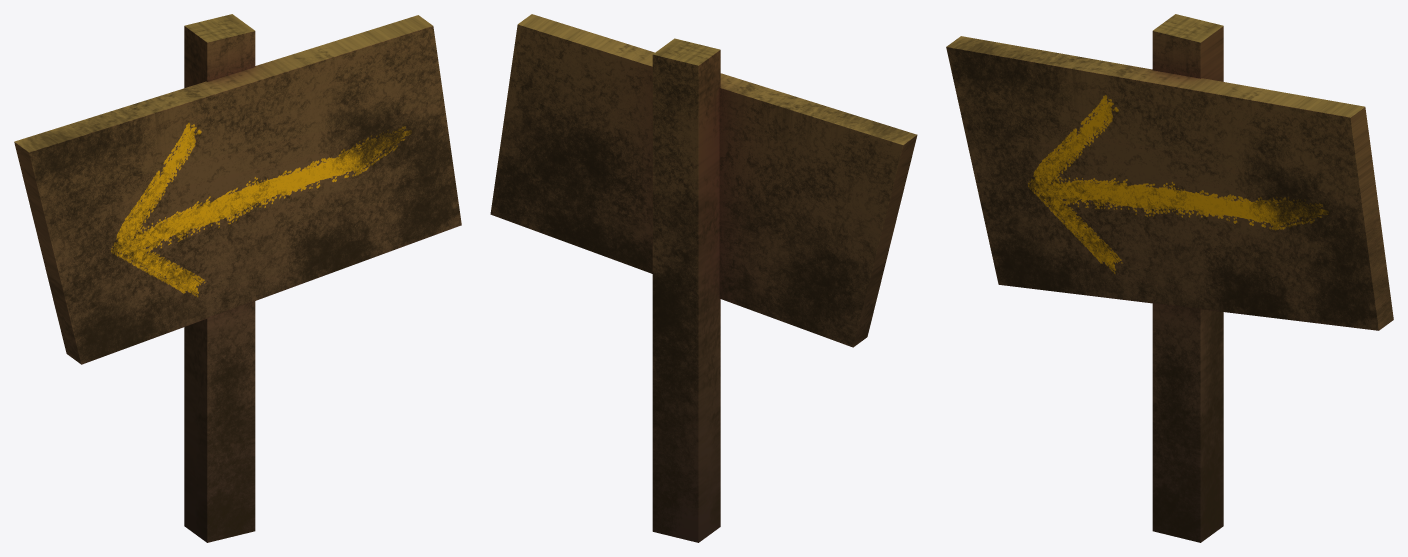
File: Signboard.glb
3 views of the same model, side by side, from view 1: azimuth 30°, elevation 25°; view 2: azimuth 150°, elevation 25°; view 3: azimuth 330°, elevation 25° (orthographic). The views are drawn at different scales.
Visible parts, largest first — view 1: pCube6; view 2: pCube6; view 3: pCube6.
Part boxes in pixels (x1,y1,x2,y2): pCube6: (14,14,461,542); pCube6: (490,14,917,542); pCube6: (946,14,1393,542).
Size of the model in its own units: 1.02 by 1.12 by 0.151.
1 material, 1 textured.
